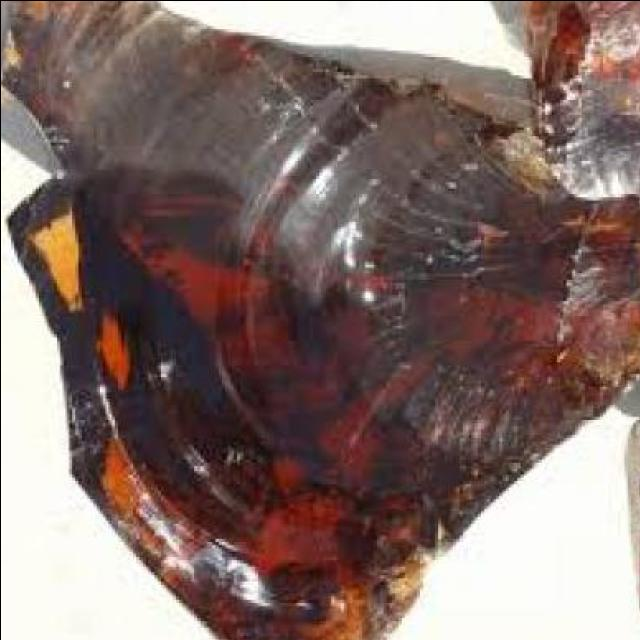kaca: (0, 0, 640, 640), (483, 0, 640, 205), (612, 401, 640, 640)
